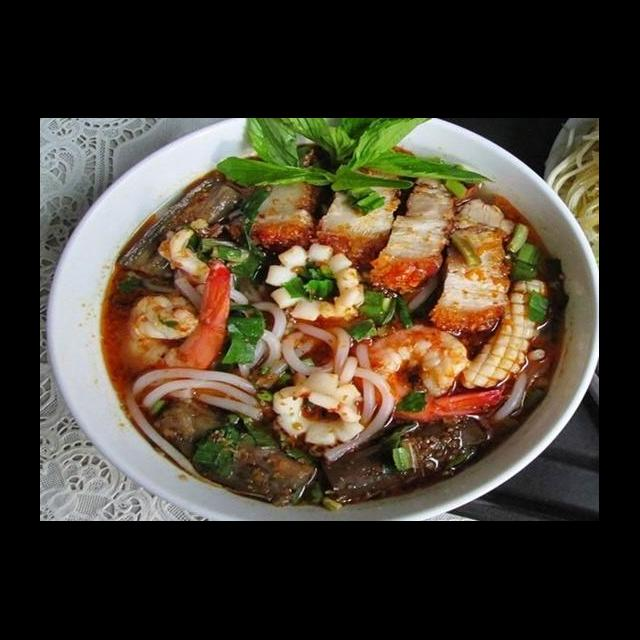bun: (170, 266, 360, 392), (317, 320, 398, 466), (120, 366, 272, 424), (484, 346, 556, 434)
bun hai san: (61, 144, 600, 521)
muc: (458, 272, 554, 392), (262, 242, 372, 326), (268, 370, 368, 450)
thit heo quay: (307, 140, 418, 274), (368, 162, 470, 300), (428, 194, 520, 340), (225, 138, 328, 258)
tom: (346, 318, 507, 428), (120, 256, 236, 388)
